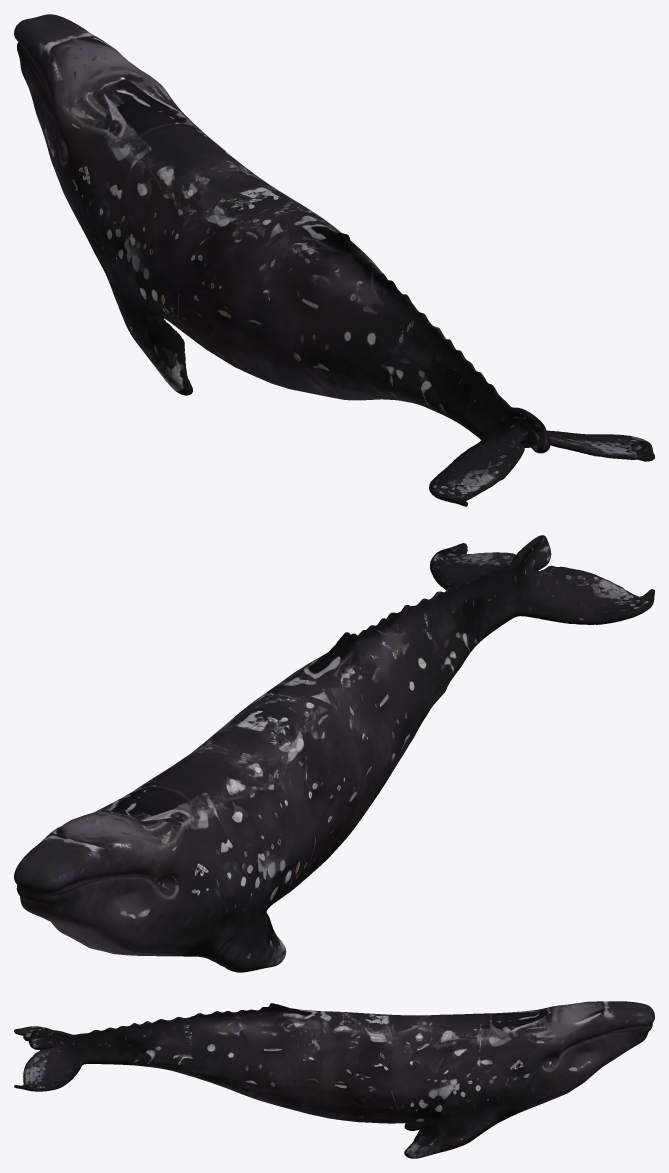
File: GrayWhale.glb
The picture shows the model from 3 angles, top to bottom: view 1: azimuth 30°, elevation 25°; view 2: azimuth 150°, elevation 25°; view 3: azimuth 270°, elevation 25°; orthographic projection. The views are drawn at different scales.
Visible parts, largest first — view 1: tripo_node_2adc2160-1dae-4270-869b-34ef34d1010d; view 2: tripo_node_2adc2160-1dae-4270-869b-34ef34d1010d; view 3: tripo_node_2adc2160-1dae-4270-869b-34ef34d1010d.
Boxes of the visible parts, left/top/right/bottom form: tripo_node_2adc2160-1dae-4270-869b-34ef34d1010d: left=14, top=14, right=654, bottom=506; tripo_node_2adc2160-1dae-4270-869b-34ef34d1010d: left=14, top=535, right=654, bottom=972; tripo_node_2adc2160-1dae-4270-869b-34ef34d1010d: left=14, top=1001, right=654, bottom=1158.
Bounding box in the file's own units: 0.234 × 0.2434 × 1.
Materials: 1 (1 with a texture image).
